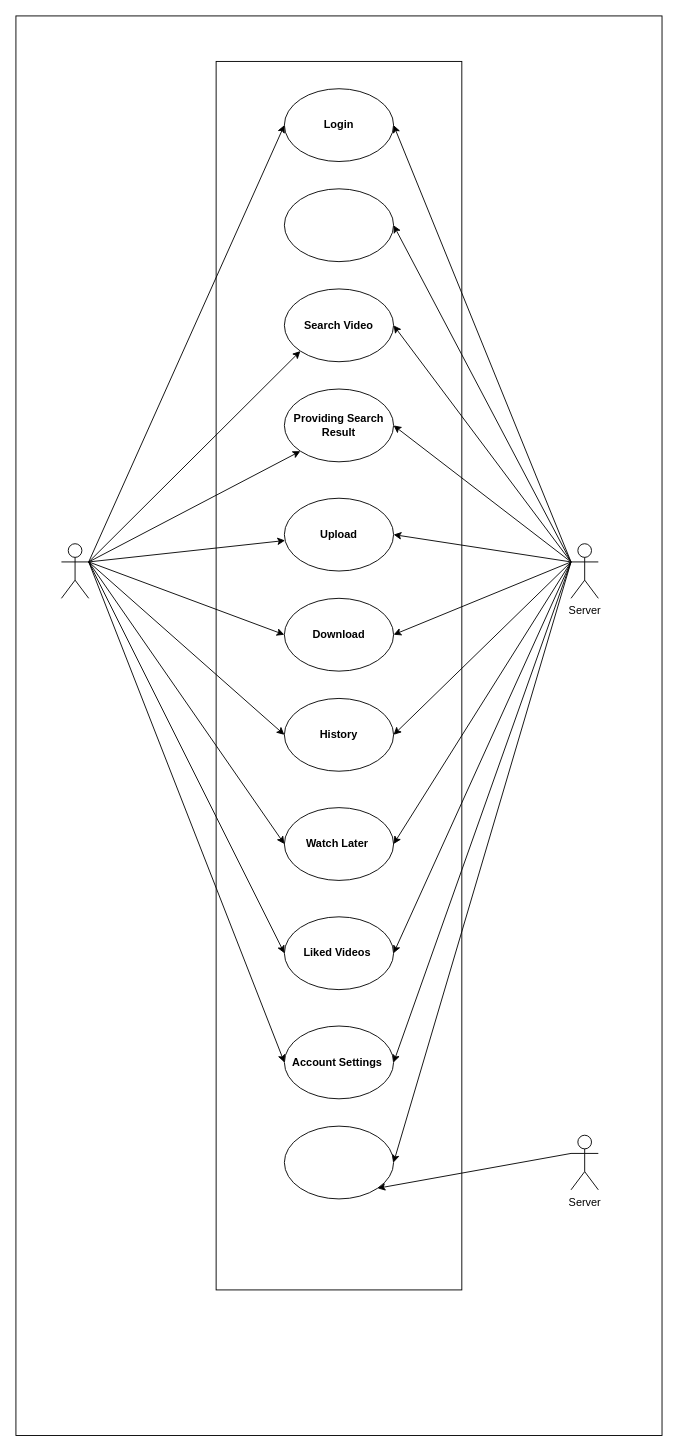
This 678x1451 diagram has some shape labels left out. Here are the shapes that lost their labels. From the top down, the centre of each, then its label:
(338,225): Authentication
(75,570): User
(338,1162): Maintenance
